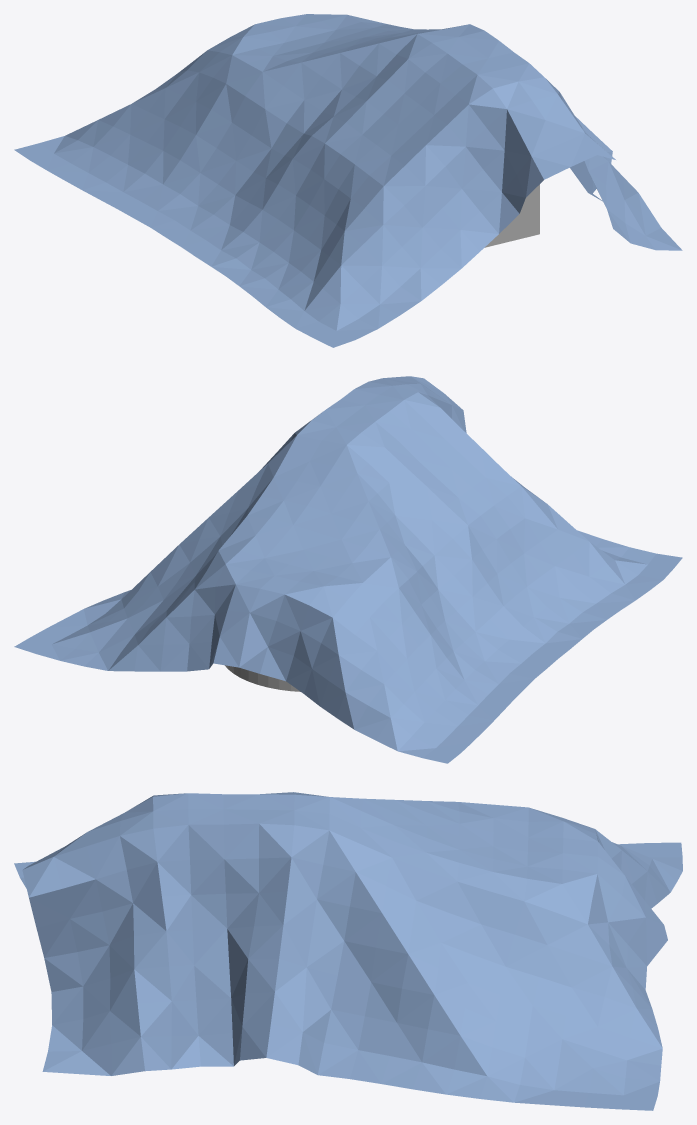
File: level_0.glb
3 renders of one model, top to bottom at view 1: azimuth 30°, elevation 25°; view 2: azimuth 150°, elevation 25°; view 3: azimuth 270°, elevation 25°, orthographic. The views are drawn at different scales.
Parts seen in each view (by area): view 1: world, object.obj; view 2: world, object.obj; view 3: world.
Boxes of the visible parts, left/top/right/bottom form: world: left=14, top=14, right=682, bottom=347; object.obj: left=484, top=184, right=539, bottom=247; world: left=14, top=376, right=682, bottom=763; object.obj: left=225, top=665, right=300, bottom=691; world: left=14, top=792, right=682, bottom=1110.
Size of the model in its own units: 0.5656 by 0.1925 by 0.5959.
